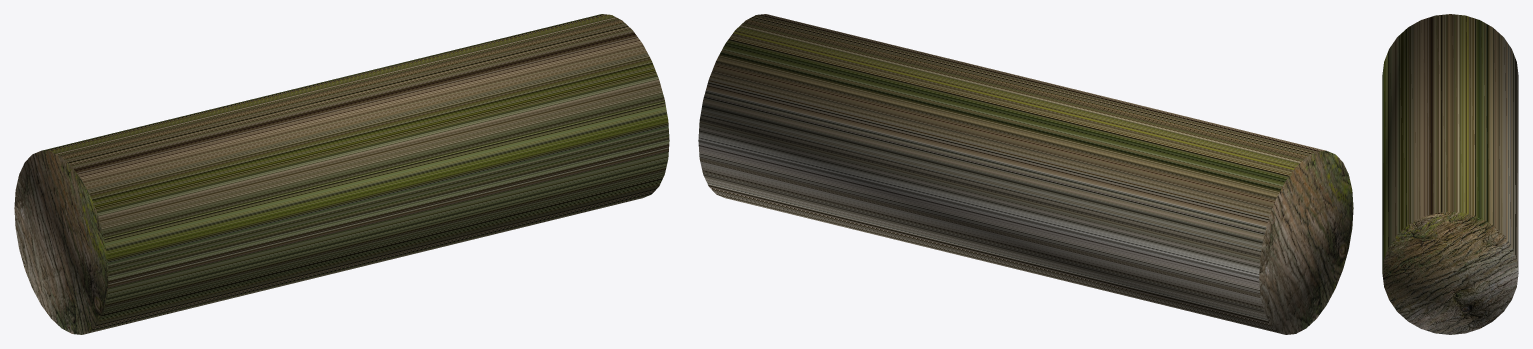
The model's file is log_large.glb.
3 renders of one model, left to right at view 1: azimuth 30°, elevation 25°; view 2: azimuth 150°, elevation 25°; view 3: azimuth 270°, elevation 25°, orthographic. The views are drawn at different scales.
Visible parts, largest first — view 1: Cylinder; view 2: Cylinder; view 3: Cylinder.
Part boxes in pixels (x1,y1,x2,y2): Cylinder: (14,14,669,334); Cylinder: (698,14,1353,334); Cylinder: (1382,14,1518,334).
Size of the model in its own units: 2.4 by 0.7 by 0.7.
Materials: 1 (1 with a texture image).
